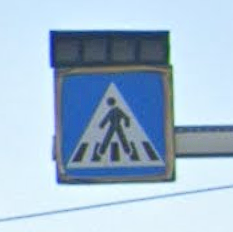trecere_pietoni: (48, 61, 181, 186)
